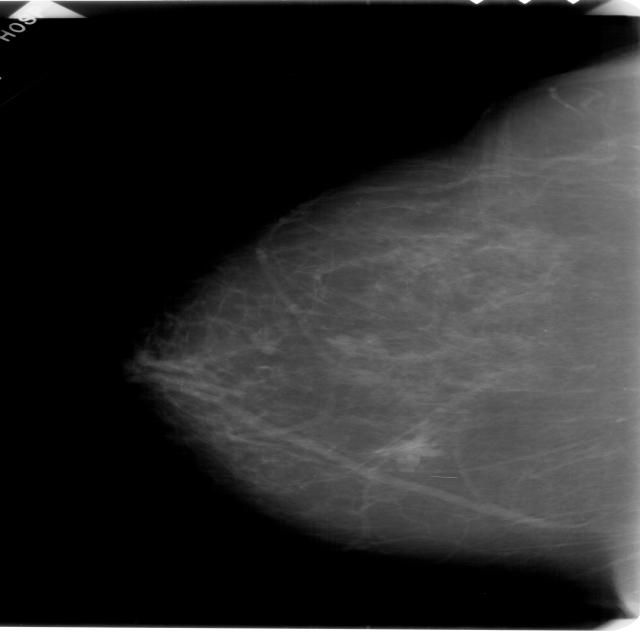normal: (129, 24, 640, 566)
